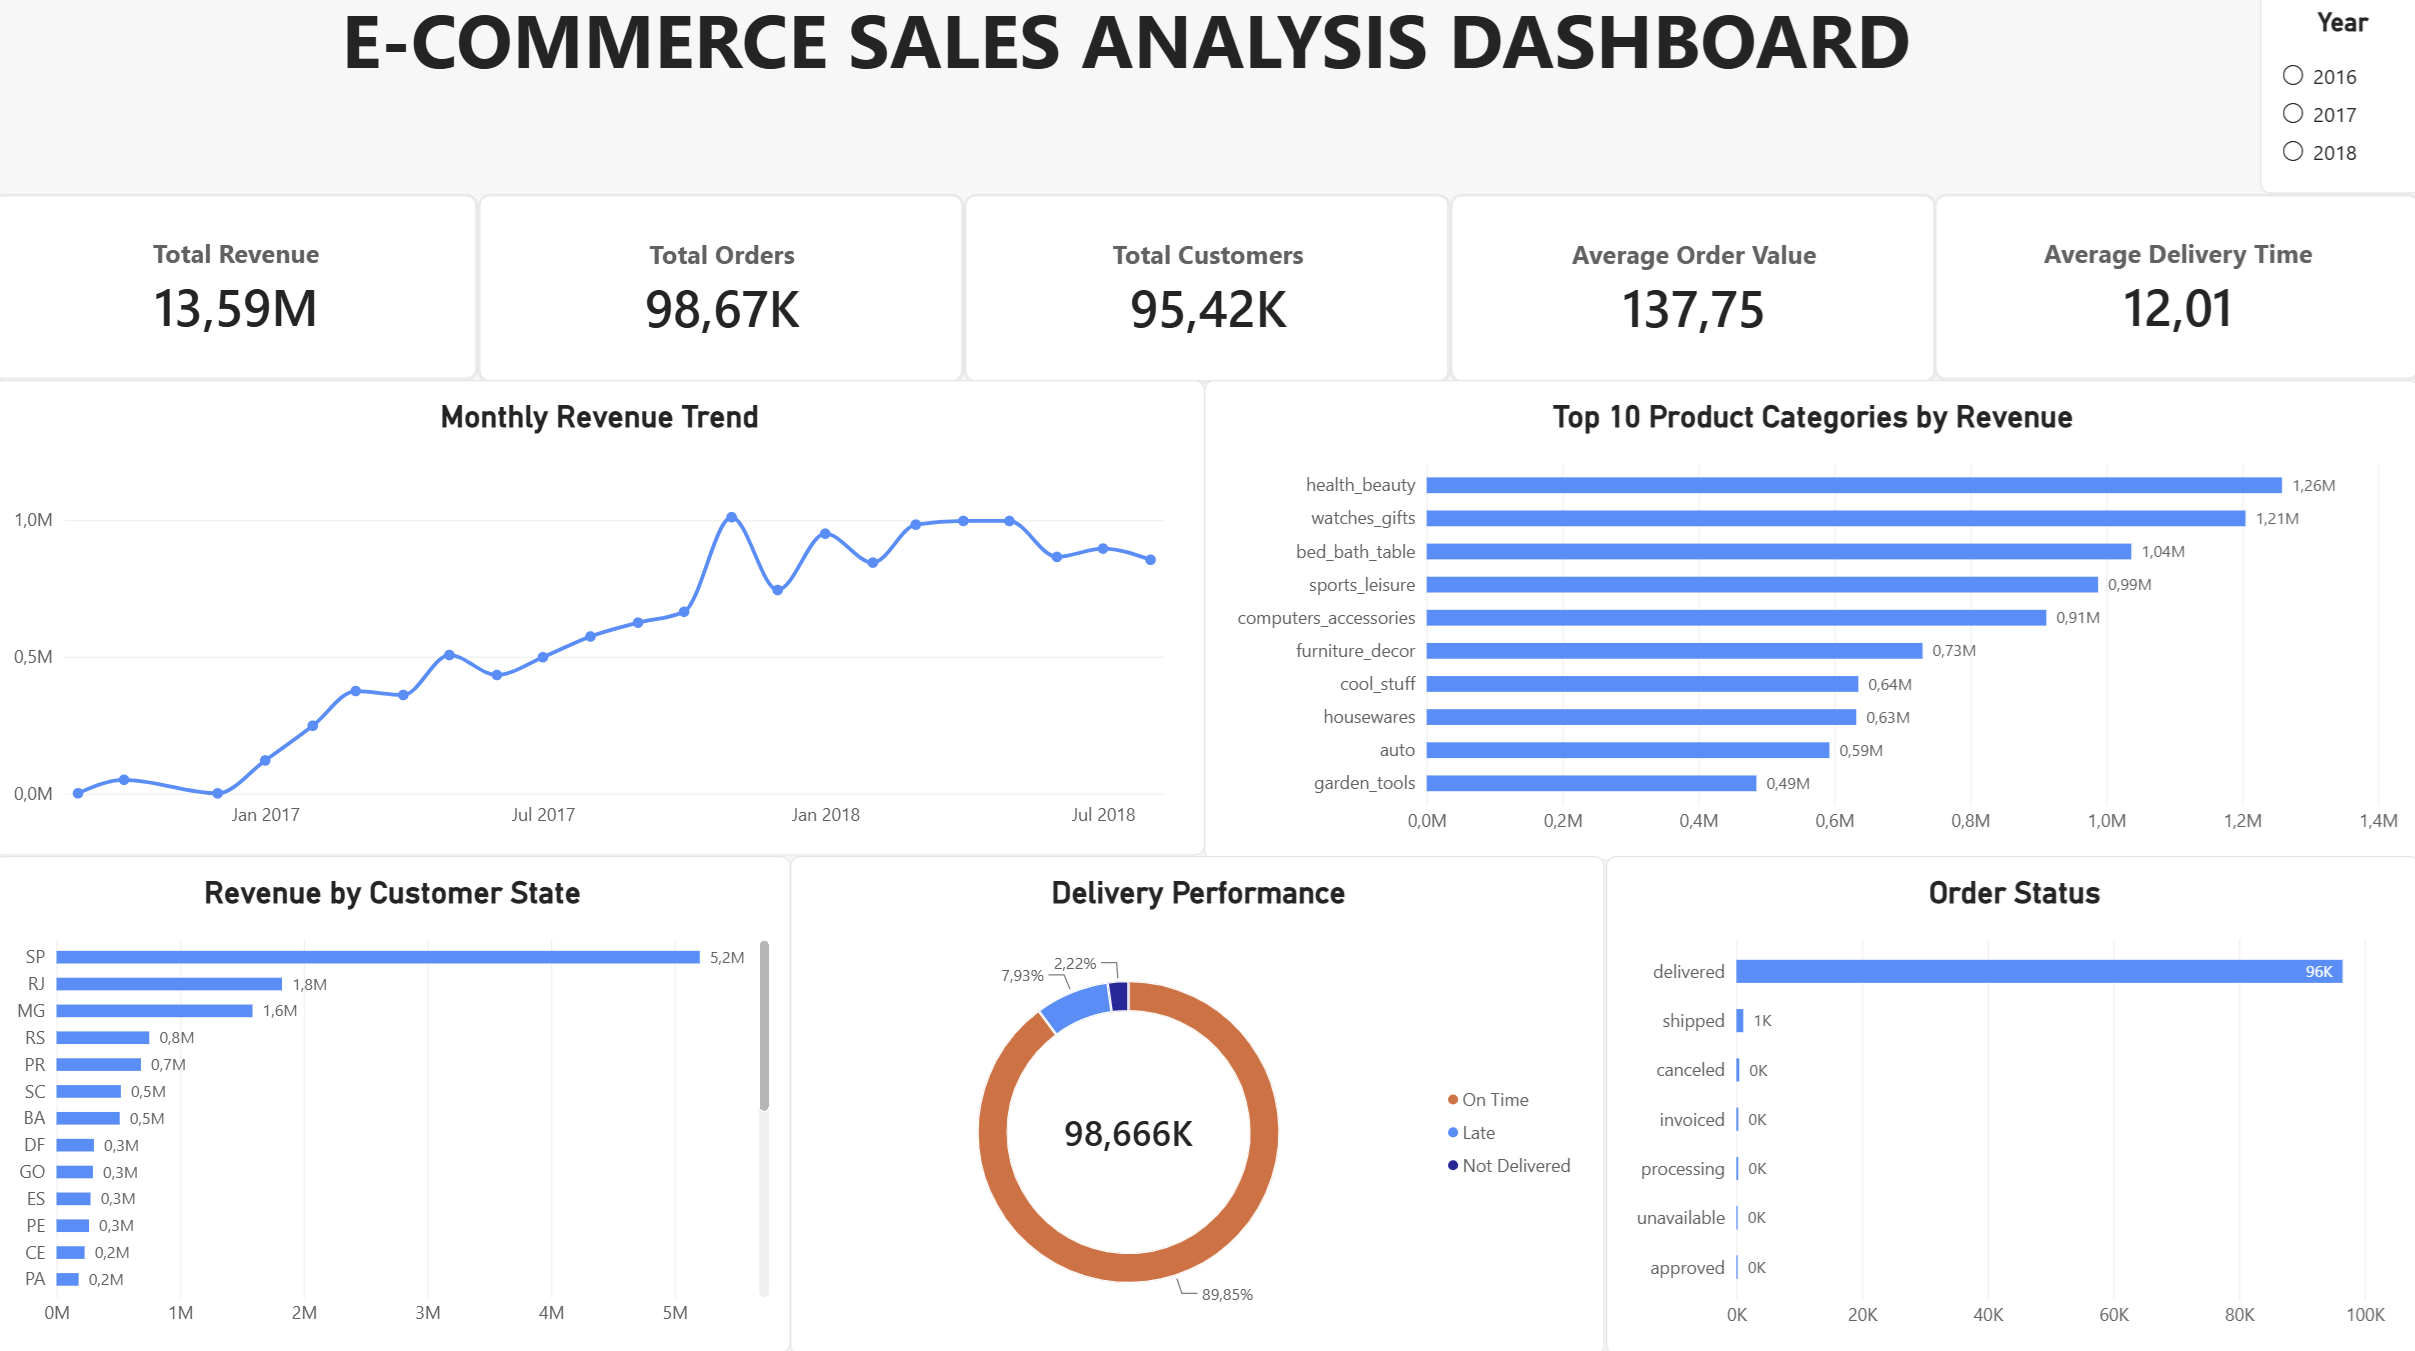

What the dashboard file says about the page in this screenshot:
{"tool":"powerbi","page":{"name":"Page 1","canvas":[1920,1080],"ordinal":0},"visuals":[{"type":"cardVisual","fields":{"Data":["public sales_analysis.Total Revenue"]},"box":[0,162.6,384.4,147.9],"z":0},{"type":"cardVisual","fields":{"Data":["public sales_analysis.Total Orders"]},"box":[384.4,162.6,384.4,150],"z":1},{"type":"cardVisual","fields":{"Data":["public sales_analysis.Total Customers"]},"box":[768.8,162.6,384.4,150],"z":2},{"type":"cardVisual","fields":{"Data":["public sales_analysis.Average Order Value","public sales_analysis.Average Order Value"]},"box":[1153.3,162.6,384.4,150],"z":3},{"type":"lineChart","title":"Monthly Revenue Trend","fields":{"Category":["public sales_analysis.order_purchase_timestamp.Variation.Date Hierarchy.Year","public sales_analysis.order_purchase_timestamp.Variation.Date Hierarchy.Quarter","public sales_analysis.order_purchase_timestamp.Variation.Date Hierarchy.Month","public sales_analysis.order_purchase_timestamp.Variation.Date Hierarchy.Day"],"Y":["public sales_analysis.Total Revenue"]},"box":[0,310.5,958.9,376],"z":4},{"type":"clusteredBarChart","title":"Top 10 Product Categories by Revenue","fields":{"Category":["public sales_analysis.product_category"],"Y":["public sales_analysis.Total Revenue"]},"box":[958.9,310.5,961.1,380.2],"z":5},{"type":"clusteredBarChart","title":"Revenue by Customer State","fields":{"Category":["public sales_analysis.customer_state"],"Y":["public sales_analysis.Total Revenue"]},"box":[0,686.5,631.6,392.9],"z":6},{"type":"donutChart","title":"Delivery Performance","fields":{"Category":["public sales_analysis.delivery_status"],"Y":["Count(public sales_analysis.order_id)"]},"box":[631.6,686.5,644.2,395],"z":7},{"type":"cardVisual","fields":{"Data":["public sales_analysis.Average Delivery Time"]},"box":[1535.6,162.6,384.4,147.9],"z":8},{"type":"clusteredBarChart","title":"Order Status","fields":{"Category":["public sales_analysis.order_status"],"Y":["Count(public sales_analysis.order_id)"]},"box":[1275.8,686.5,644.2,395],"z":9},{"type":"listSlicer","title":"Year","fields":{"Values":["public sales_analysis.purchase_year"]},"box":[1793.3,0,128.8,162.6],"z":10},{"type":"textbox","box":[0,0,1793.3,84.5],"z":11}]}

Visuals, with their boxes in screenshot pixels (x1, y1, x2, y2), scaled from the page's 1920x1080 canvas onto the 2415x1351 screenshot:
cardVisual - public sales_analysis.Total Revenue: {"left": 0, "top": 203, "right": 484, "bottom": 388}
cardVisual - public sales_analysis.Total Orders: {"left": 484, "top": 203, "right": 967, "bottom": 391}
cardVisual - public sales_analysis.Total Customers: {"left": 967, "top": 203, "right": 1451, "bottom": 391}
cardVisual - public sales_analysis.Average Order Value x public sales_analysis.Average Order Value: {"left": 1451, "top": 203, "right": 1934, "bottom": 391}
"Monthly Revenue Trend" lineChart: {"left": 0, "top": 388, "right": 1206, "bottom": 859}
"Top 10 Product Categories by Revenue" clusteredBarChart: {"left": 1206, "top": 388, "right": 2414, "bottom": 864}
"Revenue by Customer State" clusteredBarChart: {"left": 0, "top": 859, "right": 794, "bottom": 1350}
"Delivery Performance" donutChart: {"left": 794, "top": 859, "right": 1605, "bottom": 1350}
cardVisual - public sales_analysis.Average Delivery Time: {"left": 1931, "top": 203, "right": 2414, "bottom": 388}
"Order Status" clusteredBarChart: {"left": 1605, "top": 859, "right": 2414, "bottom": 1350}
"Year" listSlicer: {"left": 2256, "top": 0, "right": 2414, "bottom": 203}
textbox: {"left": 0, "top": 0, "right": 2256, "bottom": 106}
